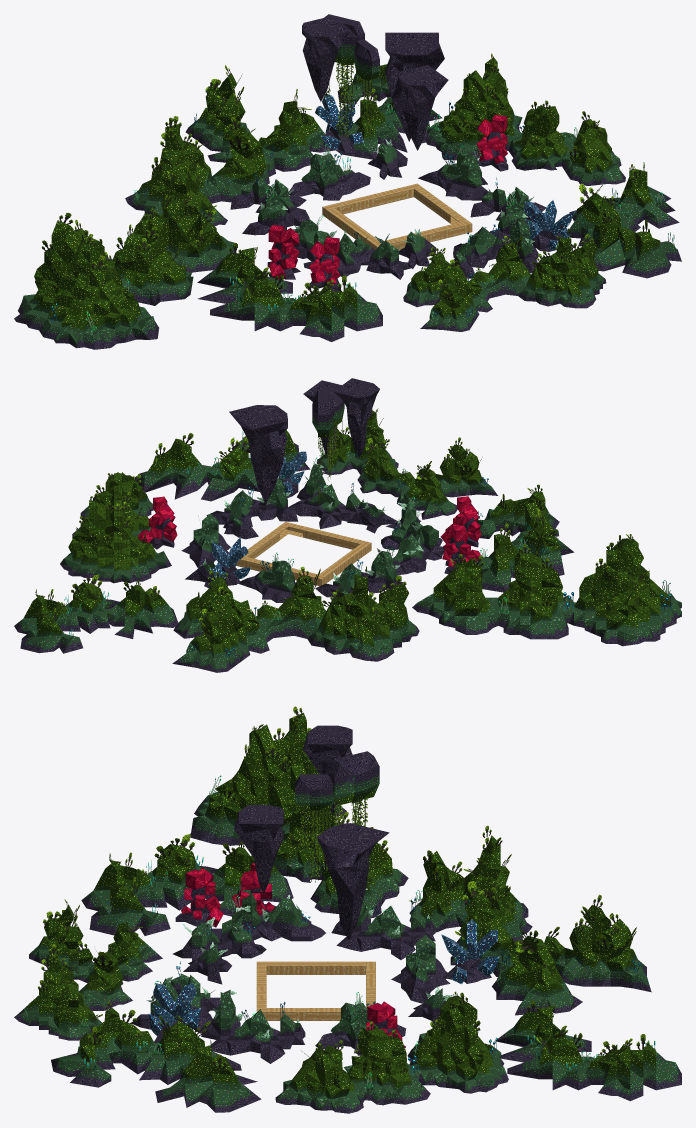
File: background1.gltf
3 renders of one model, top to bottom at view 1: azimuth 30°, elevation 25°; view 2: azimuth 150°, elevation 25°; view 3: azimuth 270°, elevation 25°, orthographic. The views are drawn at different scales.
Parts seen in each view (by area): view 1: MossRockBig3 (×2), MossRockBig2 (×2), MossRockBig1 (×3), Stalag1 (×3), MossRock2 (×3), MossRock1 (×2), RubyRock1 (×3), FORBIDDEN FUNYUN, QuartzRock1 (×2), MossRock3, IvyTop1 (×2), Rock1 (×2); view 2: MossRockBig3 (×2), MossRockBig2 (×2), MossRockBig1 (×3), MossRock2 (×3), Stalag1 (×3), RubyRock1 (×3), MossRock1 (×2), FORBIDDEN FUNYUN, MossRock3, QuartzRock1 (×2), IvyTop1 (×2), Rock1; view 3: MossRockBig1 (×3), MossRockBig2 (×2), MossRockBig3 (×2), MossRock2 (×3), Stalag1 (×3), IvyTop1 (×2), MossRock3, QuartzRock1 (×2), MossRock1 (×2), RubyRock1 (×3), FORBIDDEN FUNYUN, Rock1 (×2).
Part boxes in pixels (<box>): MossRockBig3 (×2): <box>14,53,625,349</box>; MossRockBig2 (×2): <box>125,65,606,331</box>; MossRockBig1 (×3): <box>197,64,681,341</box>; Stalag1 (×3): <box>302,16,448,150</box>; MossRock2 (×3): <box>230,170,546,278</box>; MossRock1 (×2): <box>288,144,492,200</box>; RubyRock1 (×3): <box>267,114,508,291</box>; FORBIDDEN FUNYUN: <box>322,183,472,249</box>; QuartzRock1 (×2): <box>315,93,575,251</box>; MossRock3: <box>293,215,410,279</box>; IvyTop1 (×2): <box>324,14,379,142</box>; Rock1 (×2): <box>368,139,436,268</box>; MossRockBig3 (×2): <box>60,472,681,646</box>; MossRockBig2 (×2): <box>172,408,497,672</box>; MossRockBig1 (×3): <box>14,429,574,653</box>; MossRock2 (×3): <box>206,457,403,599</box>; Stalag1 (×3): <box>229,378,379,503</box>; RubyRock1 (×3): <box>137,496,481,574</box>; MossRock1 (×2): <box>181,513,295,602</box>; FORBIDDEN FUNYUN: <box>236,522,371,586</box>; MossRock3: <box>381,496,444,575</box>; QuartzRock1 (×2): <box>209,451,307,585</box>; IvyTop1 (×2): <box>312,389,344,504</box>; Rock1: <box>347,502,396,533</box>; MossRockBig1 (×3): <box>51,834,681,1112</box>; MossRockBig2 (×2): <box>14,825,651,1040</box>; MossRockBig3 (×2): <box>190,706,508,1113</box>; MossRock2 (×3): <box>132,888,435,1063</box>; Stalag1 (×3): <box>234,725,389,940</box>; IvyTop1 (×2): <box>295,751,379,882</box>; MossRock3: <box>173,893,325,961</box>; QuartzRock1 (×2): <box>148,919,499,1043</box>; MossRock1 (×2): <box>315,935,450,1053</box>; RubyRock1 (×3): <box>175,862,405,1055</box>; FORBIDDEN FUNYUN: <box>256,961,375,1020</box>; Rock1 (×2): <box>183,942,452,1024</box>.
Bounding box in the file's own units: 77.96 × 26.42 × 67.18.
1 material, 1 textured.
